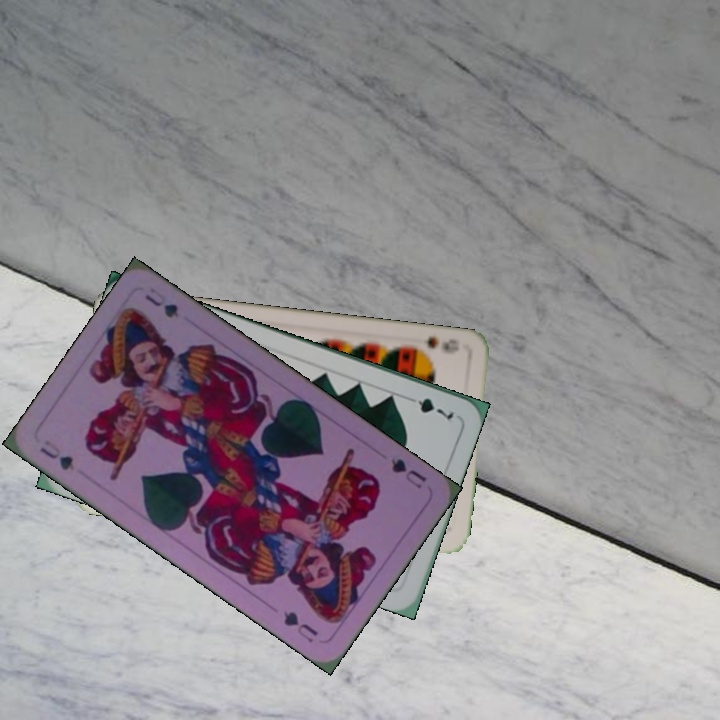G7: (401, 392, 457, 424)
GU: (386, 454, 430, 492), (36, 436, 77, 473)
S9: (406, 332, 463, 357)
